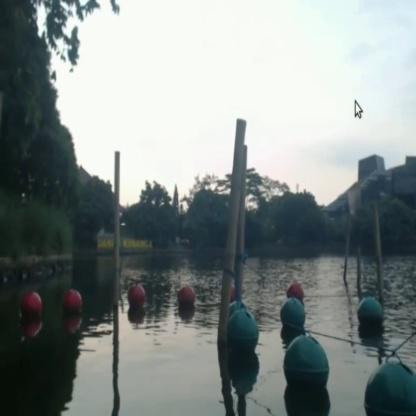green_buoy: (361, 360, 415, 415), (284, 335, 330, 398), (226, 308, 260, 360), (356, 295, 385, 335), (280, 299, 303, 334)
red_buoy: (21, 292, 41, 324), (63, 288, 82, 319), (127, 282, 145, 312), (178, 282, 194, 314), (284, 280, 305, 301)
